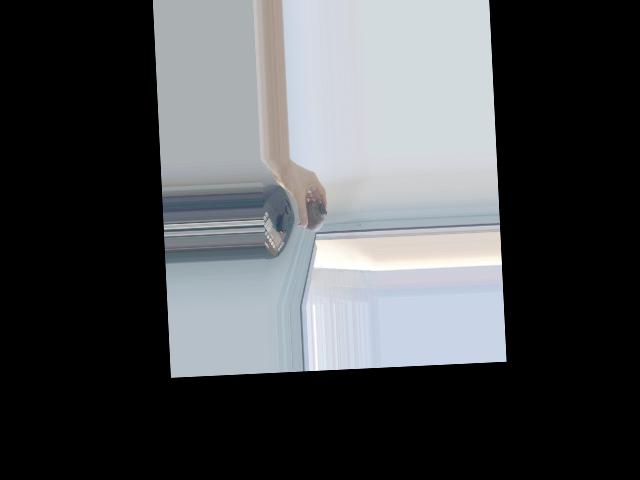beet: (295, 197, 327, 232)
